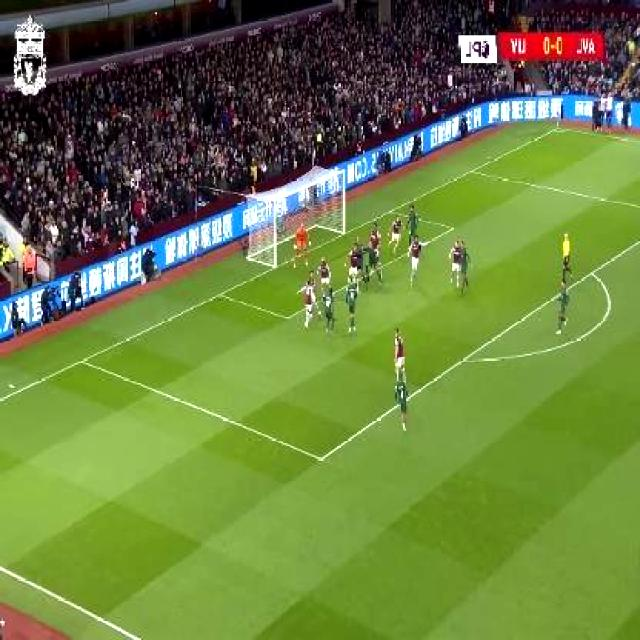bigarea_bottom_inner: (314, 446, 329, 471)
bigarea_bottom_outter: (78, 352, 90, 368)
bigarea_top_outter: (469, 164, 477, 176)
bottom_arc_area_intersection: (458, 351, 471, 369)
corner: (556, 125, 566, 132)
smallarea_bottom_inner: (281, 308, 294, 326)
smallarea_bottom_outter: (215, 284, 228, 302)
smallarea_top_inner: (448, 221, 457, 234)
smallarea_top_outter: (388, 205, 398, 217)
top_arc_area_intersection: (588, 266, 597, 279)
